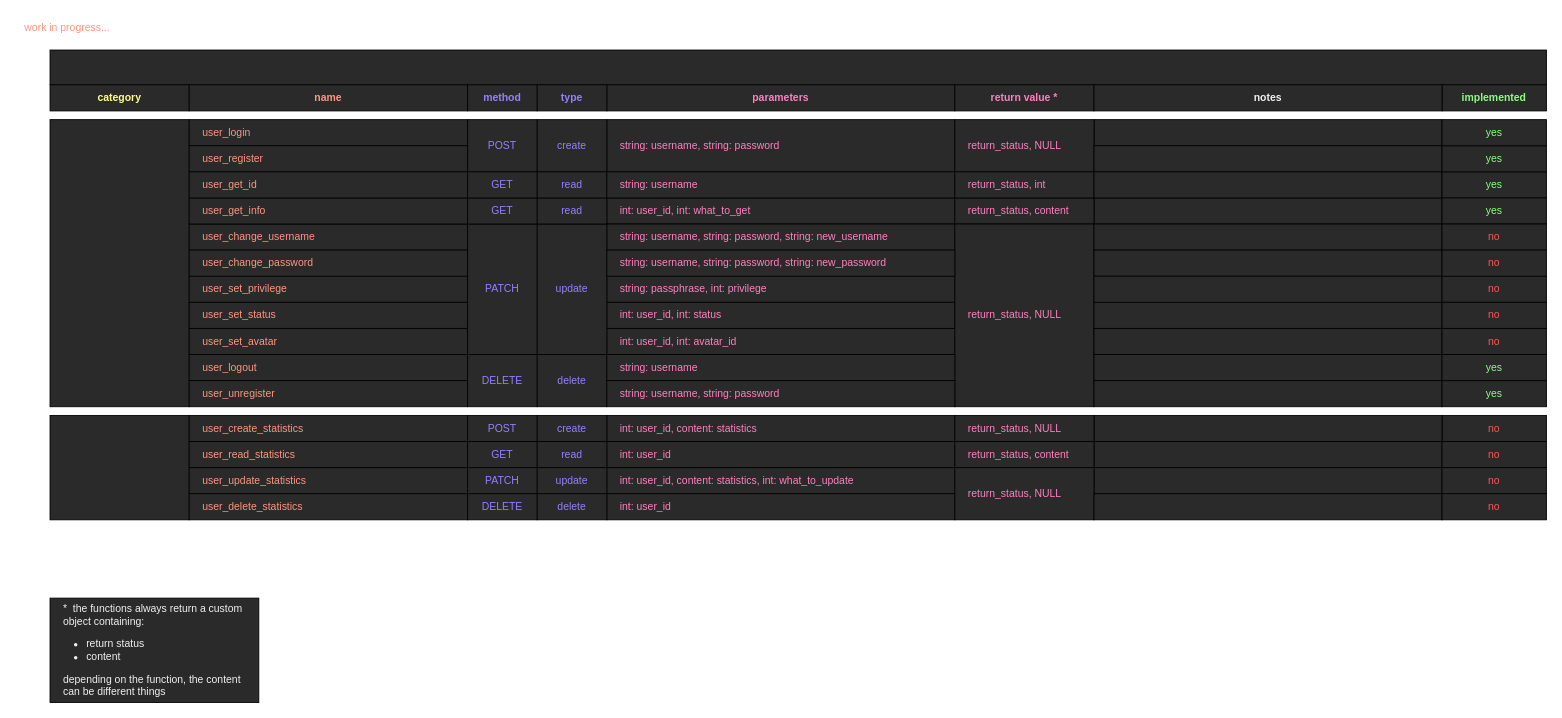
Image size: 1562x718. Some labels were removed from this diagram. Each missing label, with the box of its shape:
API functions: (49, 49, 1546, 85)
basic user services: (49, 119, 189, 407)
user skill and statistics: (49, 415, 189, 520)
